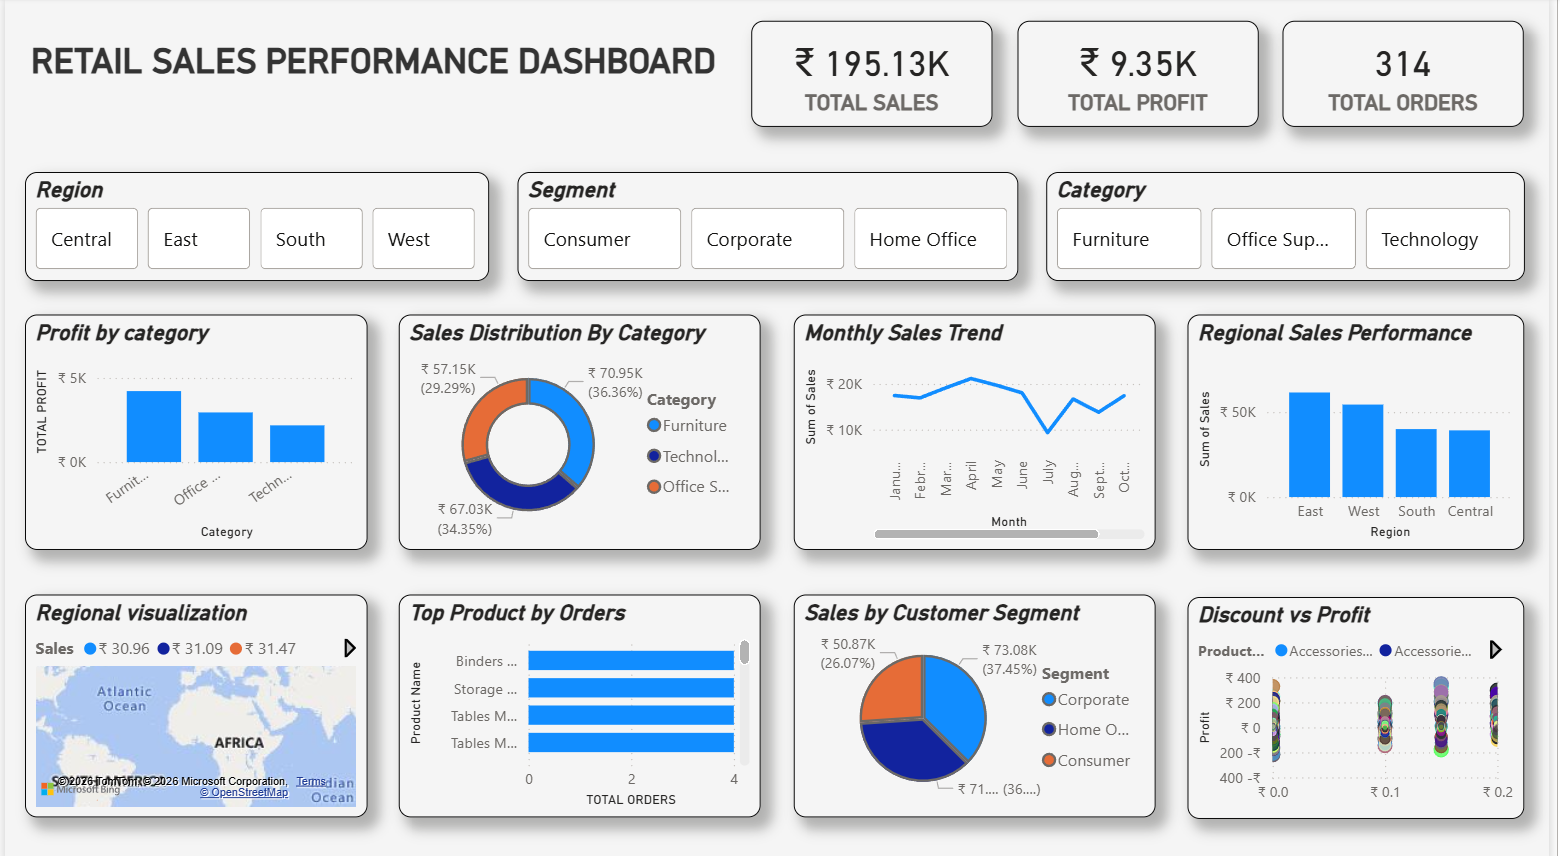

The page's visual inventory and layout, read from the dashboard file:
{"tool":"powerbi","page":{"name":"Page 1","canvas":[1280,720],"ordinal":0},"visuals":[{"type":"card","fields":{"Values":["CLEANED.TOTAL SALES"]},"box":[618.6,19.8,200,88.4],"z":0},{"type":"card","fields":{"Values":["CLEANED.TOTAL PROFIT"]},"box":[839.5,19.8,200,88.4],"z":1000},{"type":"card","fields":{"Values":["CLEANED.Total orders"]},"box":[1059.3,19.8,200,88.4],"z":2000},{"type":"columnChart","title":"Regional Sales Performance","fields":{"Y":["Sum(CLEANED.Sales)"],"Category":["CLEANED.Region"]},"box":[980.2,262.8,279.1,195.3],"z":3000},{"type":"donutChart","title":"Sales Distribution By Category","fields":{"Category":["CLEANED.Category"],"Y":["CLEANED.TOTAL SALES"]},"box":[326.7,262.8,300,195.3],"z":4000},{"type":"lineChart","title":"Monthly Sales Trend","fields":{"Y":["Sum(CLEANED.Sales)"],"Category":["CLEANED.order date.Variation.Date Hierarchy.Month"]},"box":[653.5,262.8,300,195.3],"z":5000},{"type":"clusteredBarChart","title":"Top Product by Orders","fields":{"Category":["CLEANED.Product Name"],"Y":["CLEANED.Total orders"]},"box":[326.7,495.4,300,184.9],"z":6000},{"type":"pieChart","title":"Sales by Customer Segment","fields":{"Category":["CLEANED.Segment"],"Y":["CLEANED.TOTAL SALES"]},"box":[653.5,495.4,300,184.9],"z":7000},{"type":"scatterChart","title":"Discount vs Profit","fields":{"X":["Sum(CLEANED.Discount)"],"Y":["CLEANED.Profit"],"Size":["CLEANED.TOTAL SALES"],"Series":["CLEANED.Product Name"]},"box":[980.2,497.7,279.1,183.7],"z":8000},{"type":"advancedSlicerVisual","fields":{"Values":["CLEANED.Region"]},"box":[16.3,145.3,384.9,90.7],"z":9000},{"type":"advancedSlicerVisual","fields":{"Values":["CLEANED.Category"]},"box":[862.8,145.3,396.5,90.7],"z":10000},{"type":"advancedSlicerVisual","fields":{"Values":["CLEANED.Segment"]},"box":[424.4,145.3,415.1,90.7],"z":11000},{"type":"clusteredColumnChart","title":"Profit by category","fields":{"Category":["CLEANED.Category"],"Y":["CLEANED.TOTAL PROFIT"]},"box":[16.3,262.8,283.7,195.3],"z":12000},{"type":"filledMap","title":"Regional visualization","fields":{"Category":["CLEANED.Region"],"Series":["CLEANED.Sales"]},"box":[16.3,495.4,283.7,184.9],"z":13000},{"type":"textbox","box":[16.3,31.4,582.6,47.7],"z":14000}]}

Visuals, with their boxes in screenshot pixels (x1, y1, x2, y2), scaled from the page's 1280x720 canvas onto the 1560x856 screenshot:
card - CLEANED.TOTAL SALES: 754:24:998:129
card - CLEANED.TOTAL PROFIT: 1023:24:1267:129
card - CLEANED.Total orders: 1291:24:1535:129
"Regional Sales Performance" columnChart: 1195:312:1535:545
"Sales Distribution By Category" donutChart: 398:312:764:545
"Monthly Sales Trend" lineChart: 796:312:1162:545
"Top Product by Orders" clusteredBarChart: 398:589:764:809
"Sales by Customer Segment" pieChart: 796:589:1162:809
"Discount vs Profit" scatterChart: 1195:592:1535:810
advancedSlicerVisual - CLEANED.Region: 20:173:489:281
advancedSlicerVisual - CLEANED.Category: 1052:173:1535:281
advancedSlicerVisual - CLEANED.Segment: 517:173:1023:281
"Profit by category" clusteredColumnChart: 20:312:366:545
"Regional visualization" filledMap: 20:589:366:809
textbox: 20:37:730:94
